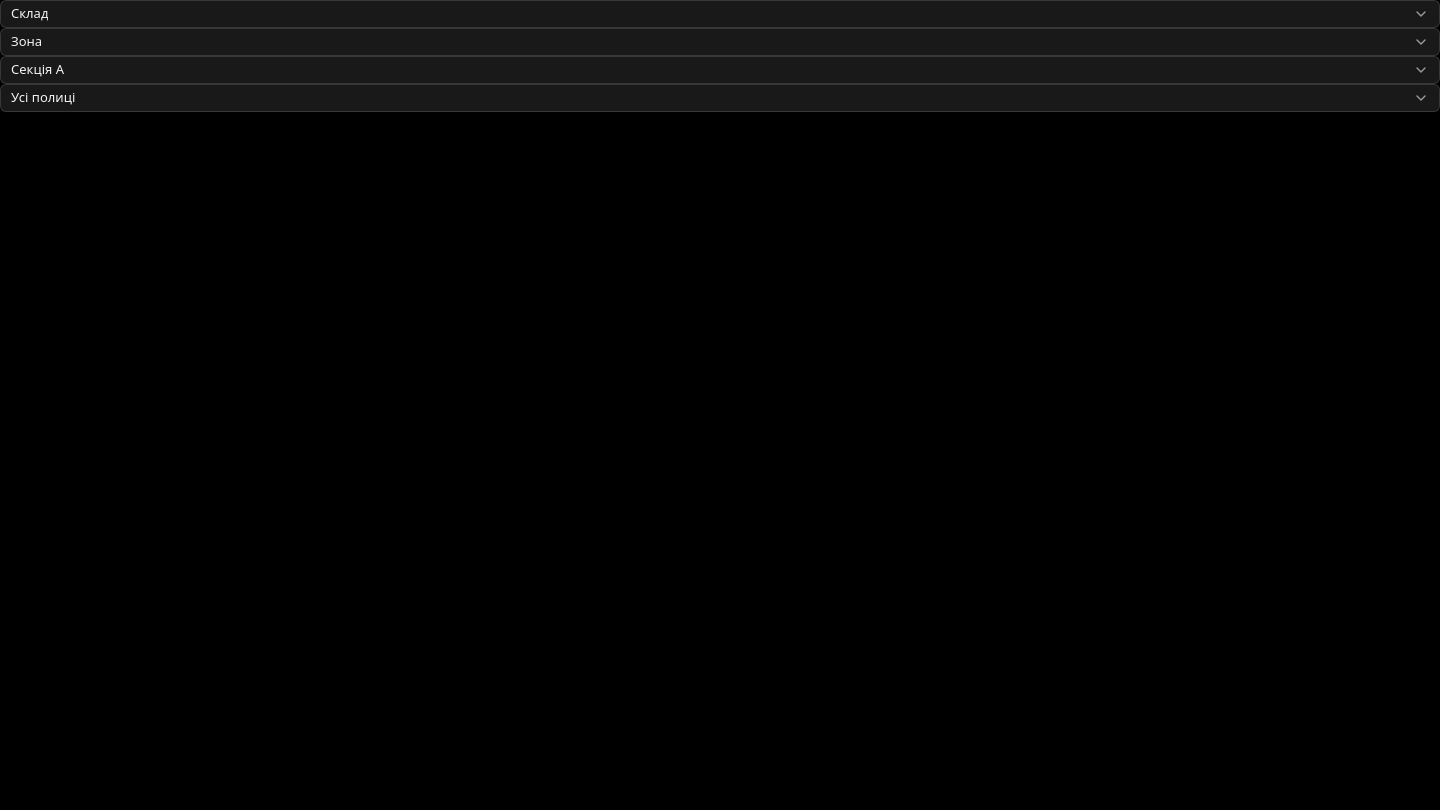
shows only names in the Склад dropdown
This screenshot has width=1440, height=810.
Click the button "Склад" at (30, 13), box [0,0,1439,28]
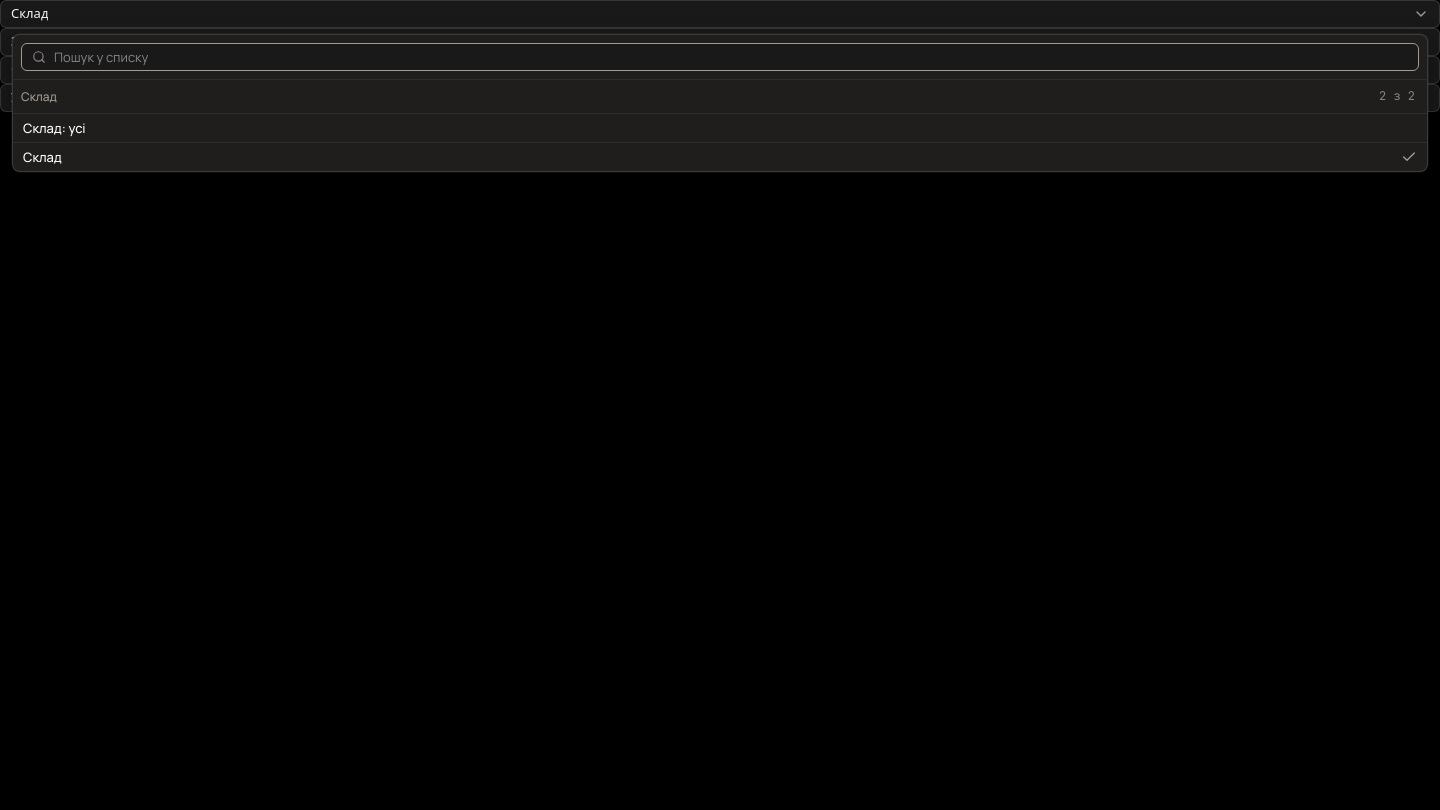
Check: the option "Склад" is shown, box [13,143,1427,171]
